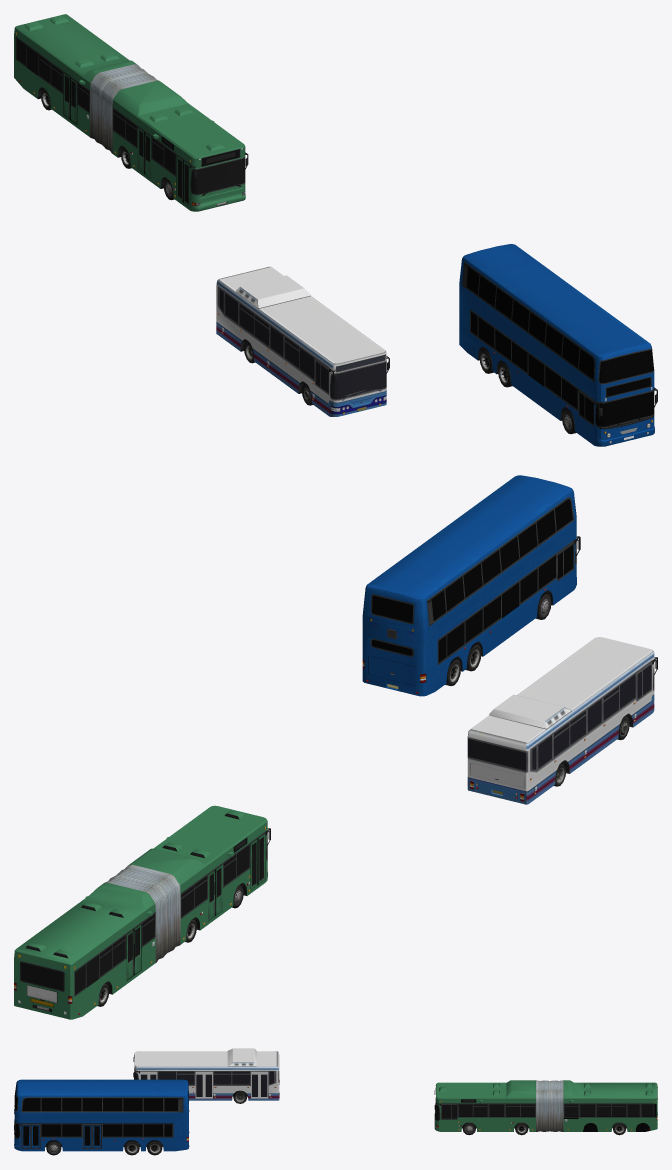
Rendered from buses.fbx.
The picture shows the model from 3 angles, top to bottom: view 1: azimuth 30°, elevation 25°; view 2: azimuth 150°, elevation 25°; view 3: azimuth 270°, elevation 25°; orthographic projection. The views are drawn at different scales.
Parts seen in each view (by area): view 1: polySurface6, polySurface13, polySurface1; view 2: polySurface6, polySurface13, polySurface1; view 3: polySurface6, polySurface13, polySurface1, polySurface10, polySurface12, polySurface11.
Part boxes in pixels (x1,y1,x2,y2): polySurface6: (459, 244, 657, 446); polySurface13: (14, 14, 248, 211); polySurface1: (216, 266, 389, 416); polySurface6: (362, 475, 580, 696); polySurface13: (14, 805, 270, 1019); polySurface1: (467, 637, 657, 804); polySurface6: (14, 1079, 189, 1151); polySurface13: (434, 1080, 657, 1131); polySurface1: (133, 1048, 279, 1100); polySurface10: (147, 1140, 162, 1155); polySurface12: (46, 1140, 61, 1155); polySurface11: (124, 1140, 139, 1155).
Size of the model in its own units: 36.02 by 14.92 by 144.
151 materials, 151 textured.
